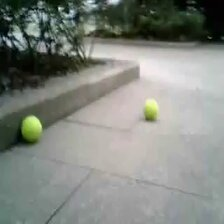tennis: (21, 115, 41, 140), (143, 99, 159, 120)
